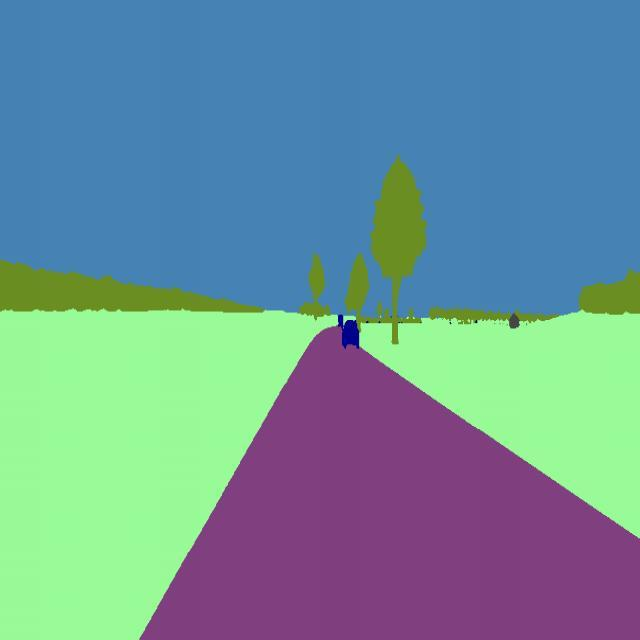safe: (341, 318, 364, 352), (336, 310, 346, 328)
